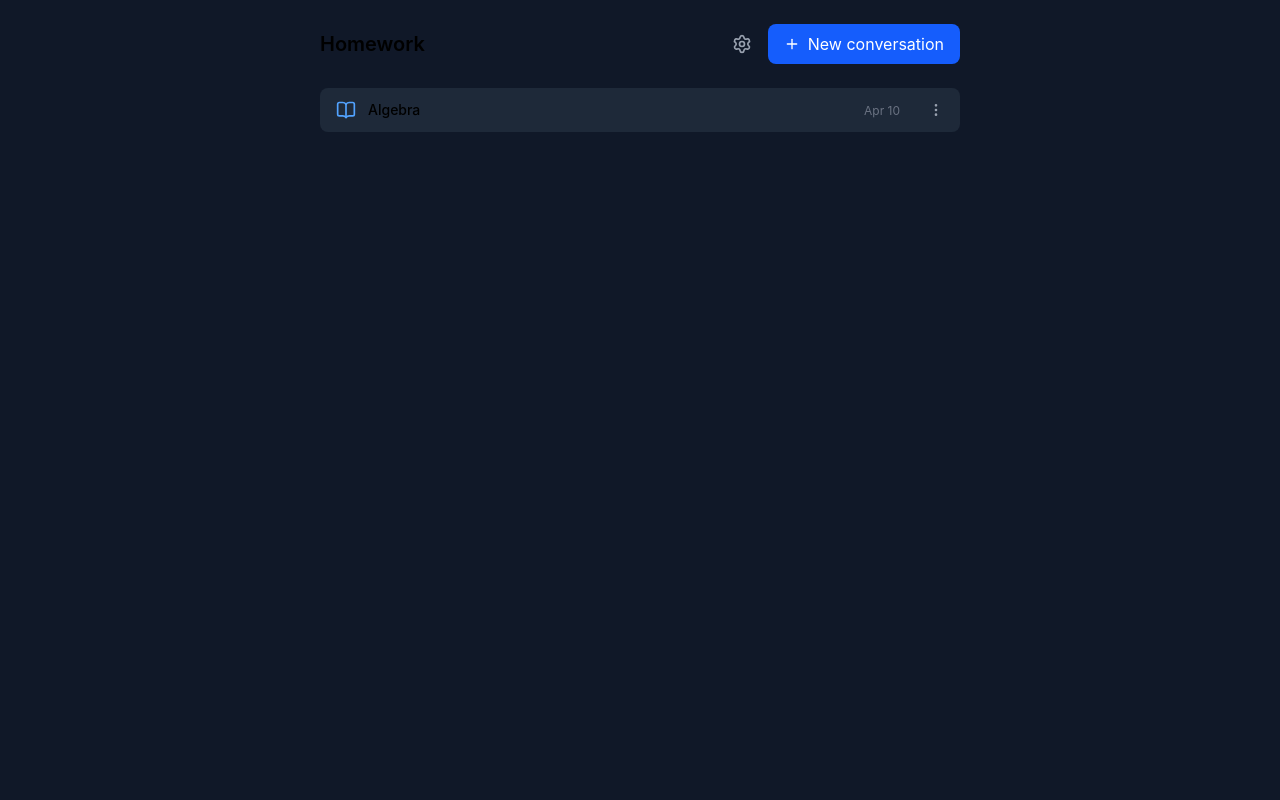
Test: HomeworkPage – overflow menu › closes the menu on outside click
Expected: the text "Algebra" is shown, [368, 100, 420, 120]
Click the button named "Conversation actions" at [936, 110], box [920, 94, 952, 126]
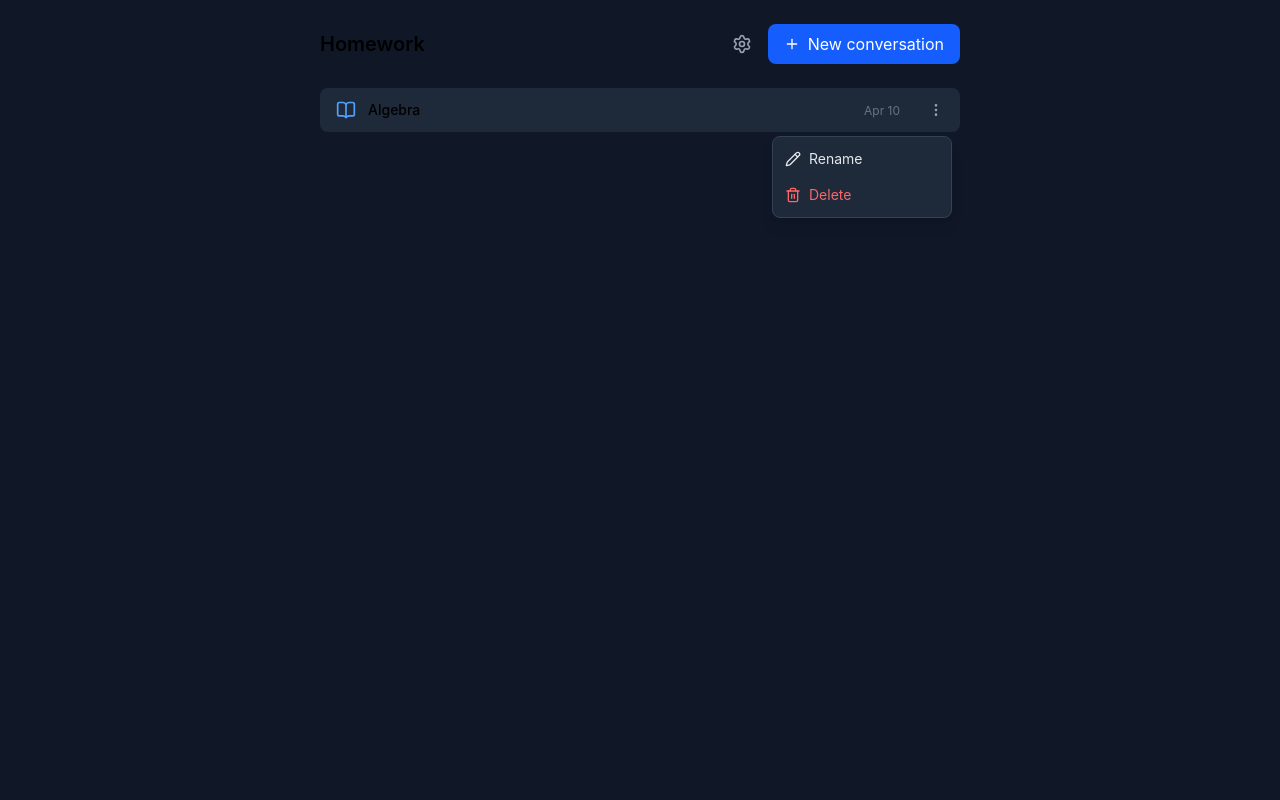
Result: the menu is shown at [772, 136, 952, 218]
Press the mouse on the element showing "Homework New conversation Algebra Apr 10 Rename Delete" at [640, 400], box [0, 0, 1279, 799]
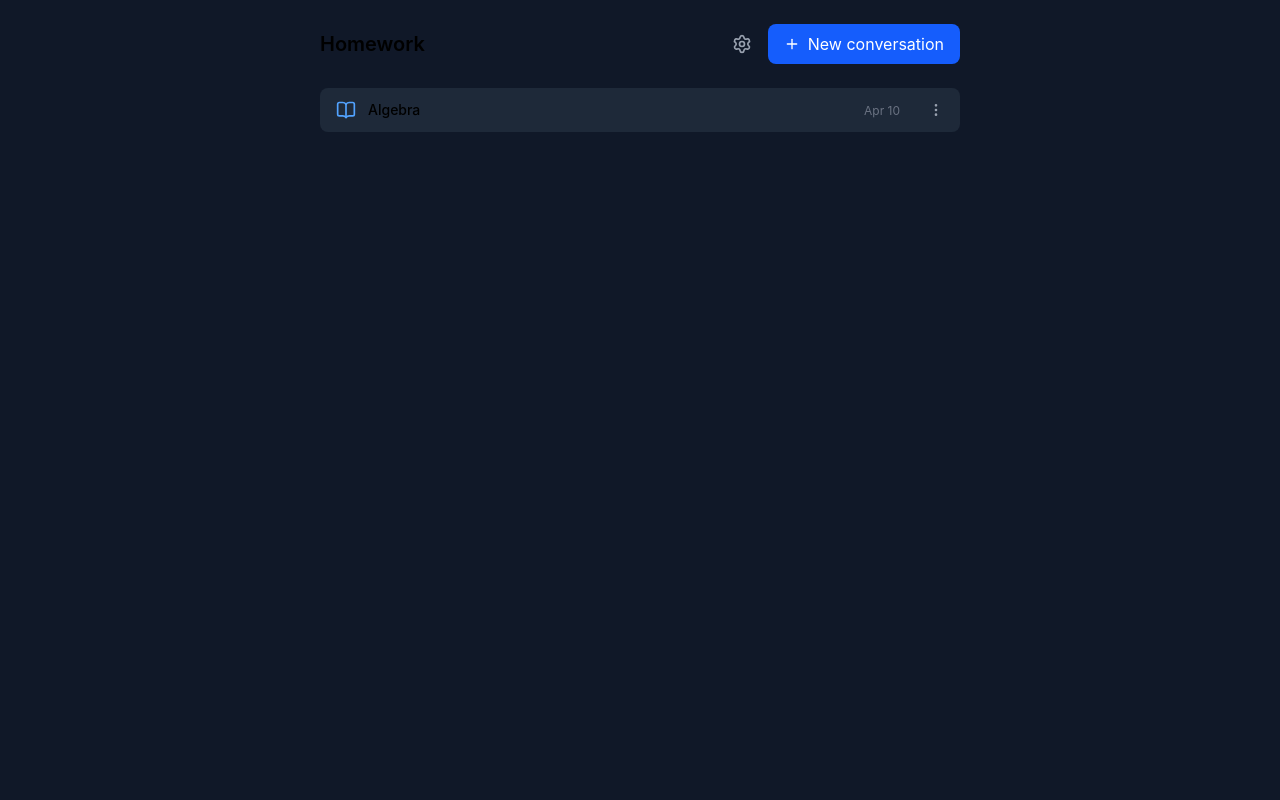
Result: the menu is gone
